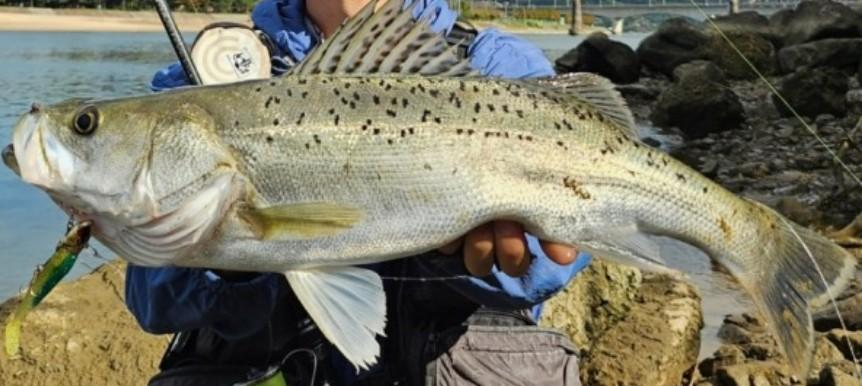fish: (4, 0, 853, 370)
